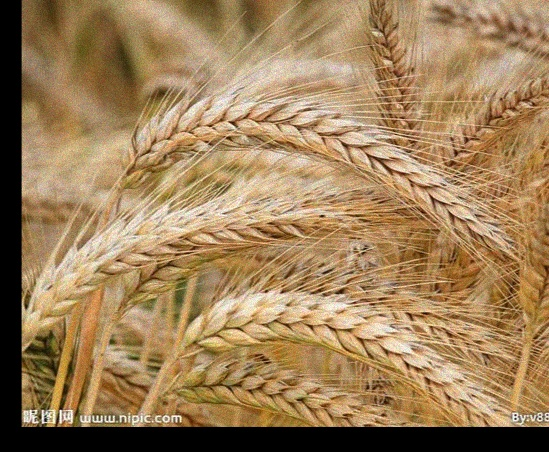wheat: (24, 184, 390, 332), (110, 100, 502, 238), (172, 290, 496, 424)
